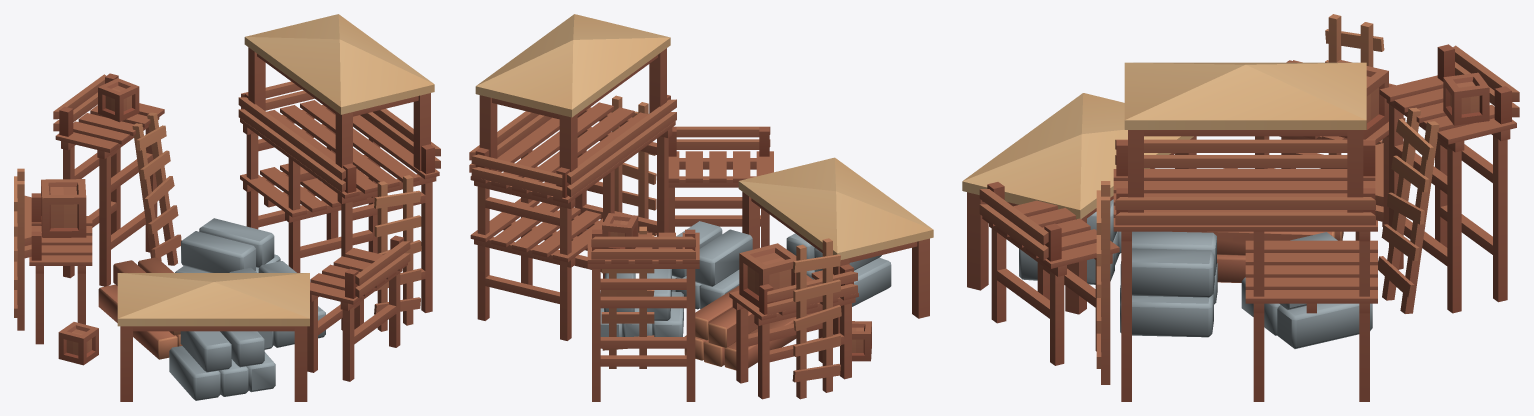
File: building_scaffolding.glb
3 renders of one model, left to right at view 1: azimuth 30°, elevation 25°; view 2: azimuth 150°, elevation 25°; view 3: azimuth 270°, elevation 25°, orthographic. The views are drawn at different scales.
Parts seen in each view (by area): view 1: building_scaffolding; view 2: building_scaffolding; view 3: building_scaffolding.
Boxes of the visible parts, box(x1,y1,x2,y2) form: building_scaffolding: box(14, 14, 440, 401); building_scaffolding: box(469, 14, 933, 401); building_scaffolding: box(962, 14, 1519, 401).
Size of the model in its own units: 1.9 by 1.3 by 2.11.
1 material, 1 textured.
